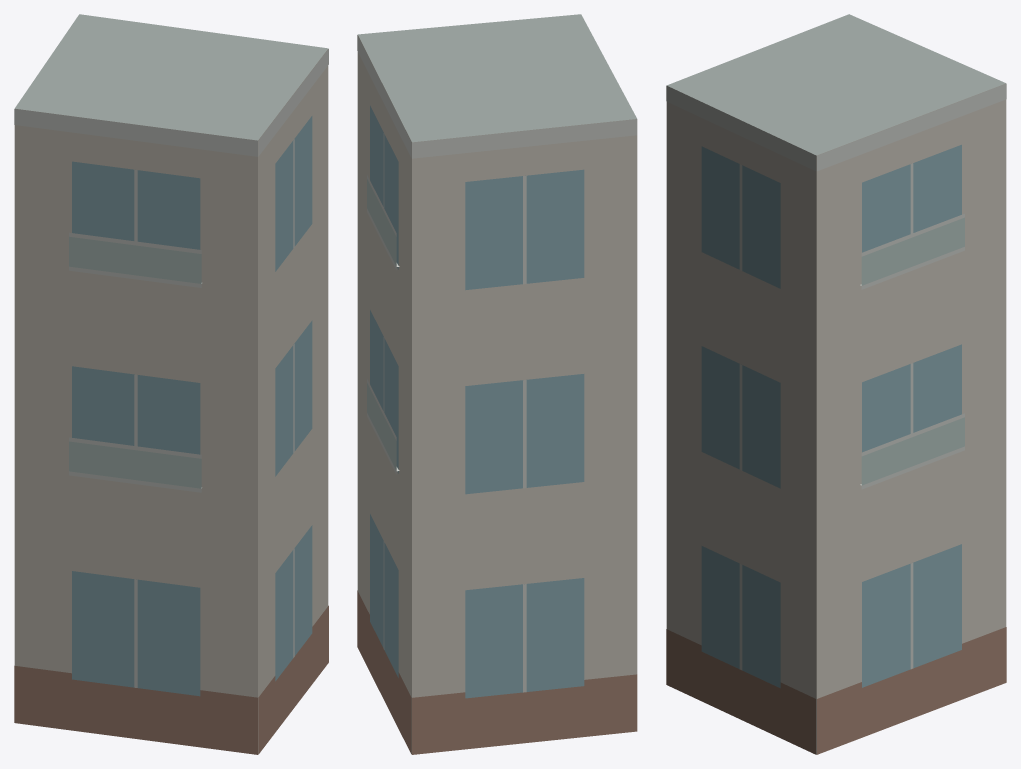
Rendered from survey-upis-32841390.glb.
3 views of the same model, side by side, from view 1: azimuth 30°, elevation 25°; view 2: azimuth 150°, elevation 25°; view 3: azimuth 270°, elevation 25° (orthographic). The views are drawn at different scales.
Visible parts, largest first — view 1: survey-upis-32841390.tmp; view 2: survey-upis-32841390.tmp; view 3: survey-upis-32841390.tmp.
Part boxes in pixels (box(x1,y1,x2,y2)): survey-upis-32841390.tmp: box(14, 14, 328, 754); survey-upis-32841390.tmp: box(357, 14, 637, 754); survey-upis-32841390.tmp: box(666, 14, 1006, 754).
Bounding box in the file's own units: 4.64 × 9.15 × 4.71.
